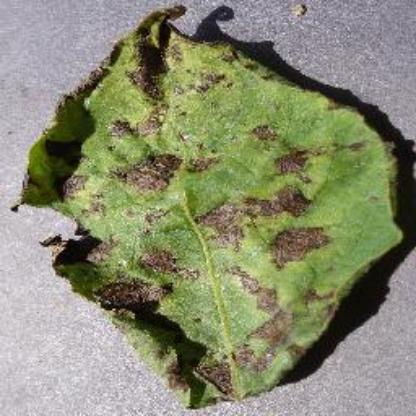Early-Blight: (8, 0, 415, 410)
